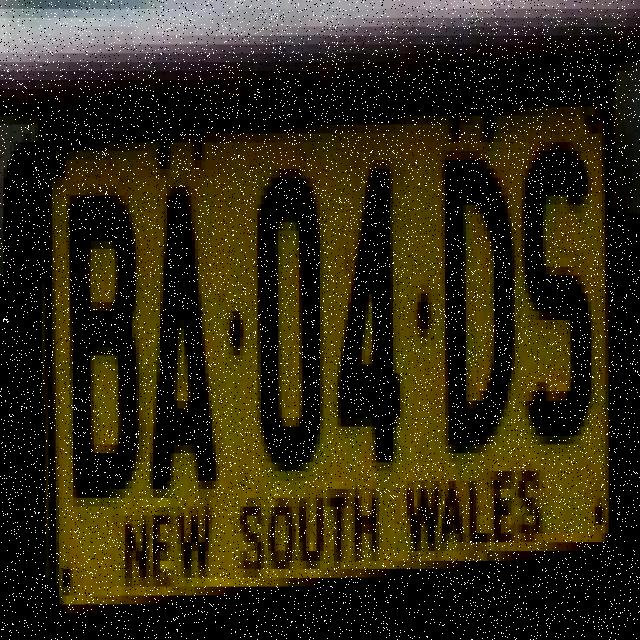licenseplate: (21, 32, 618, 611)
